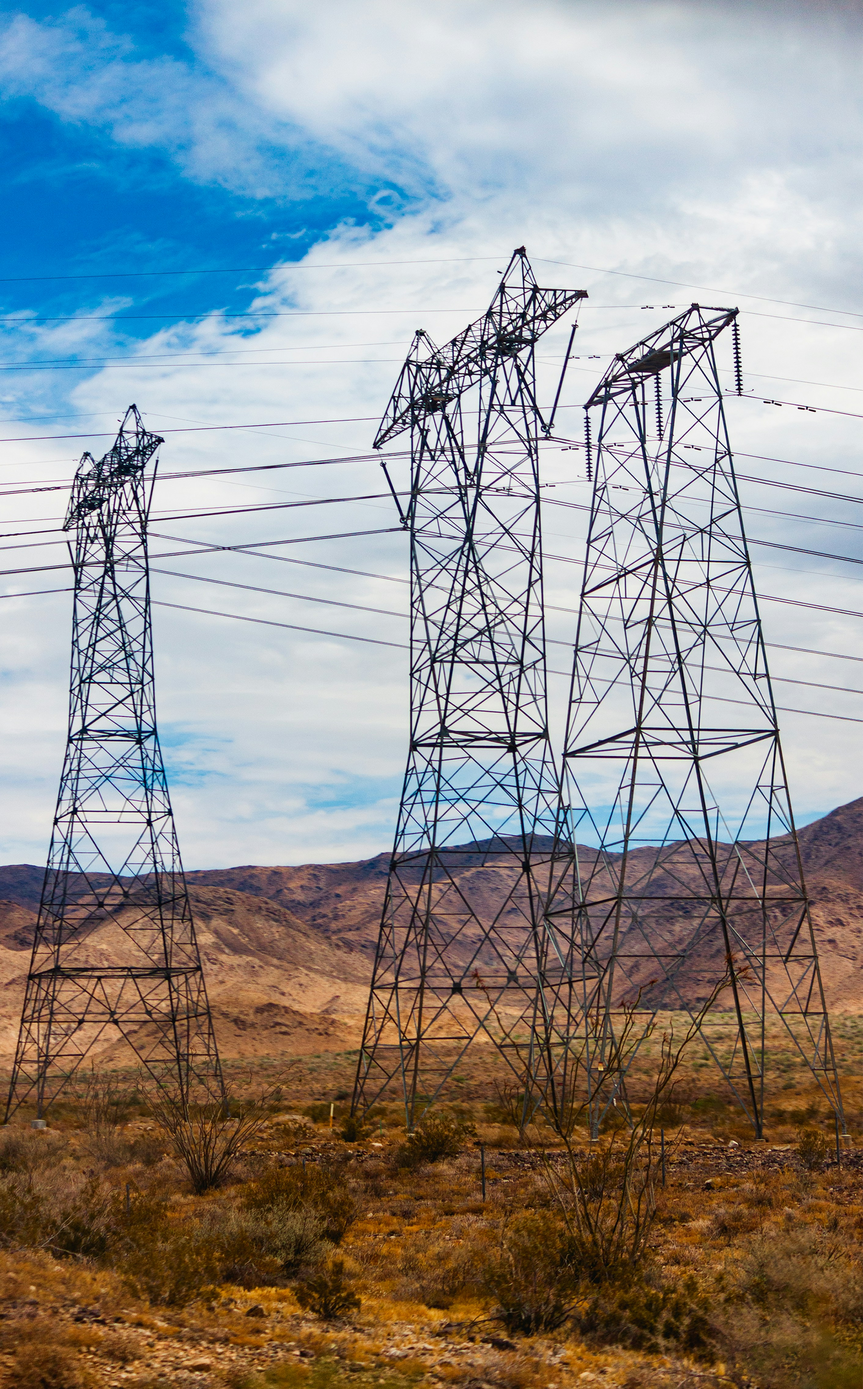insulator: (727, 324, 747, 394), (650, 373, 669, 440), (582, 413, 598, 483)
